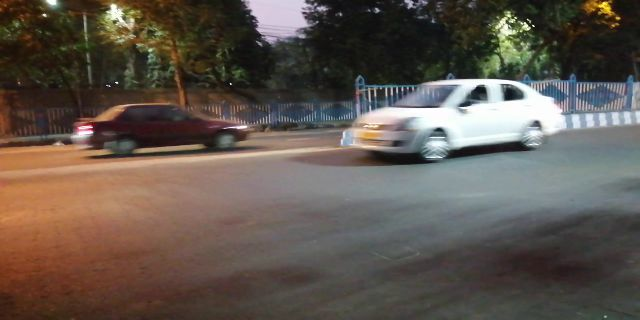Car: (341, 71, 569, 169), (68, 101, 250, 162)
